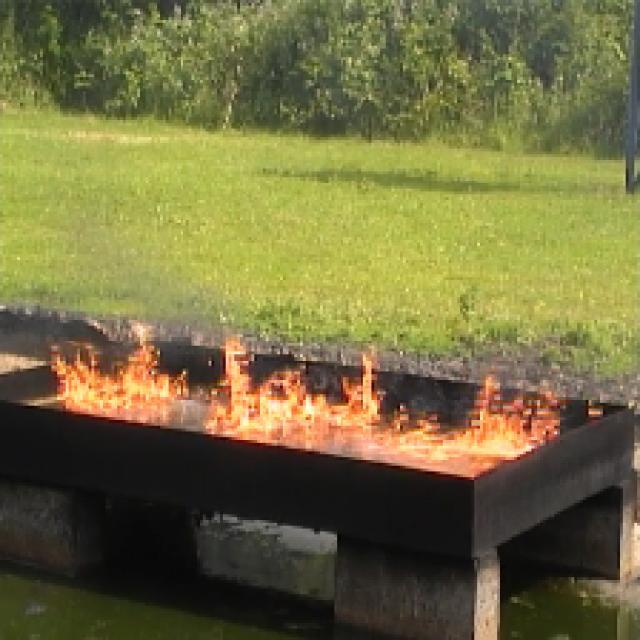Fire: (39, 334, 556, 454)
